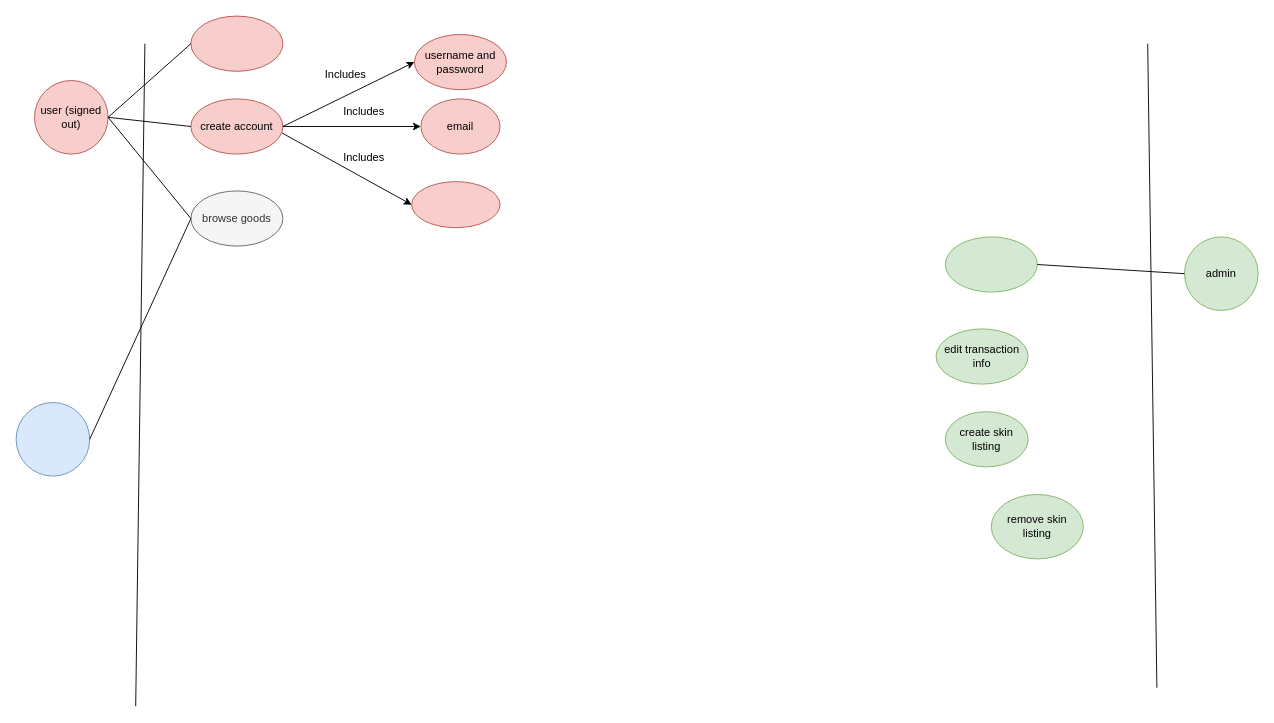
This 1274x723 diagram has some shape labels left out. The centre of each missing label's shape, as x and y in pixels:
"facilitate transaction" goes at point (990, 264).
"login" goes at point (236, 43).
"trade url" goes at point (455, 204).
"user (signed in)" goes at point (52, 439).
